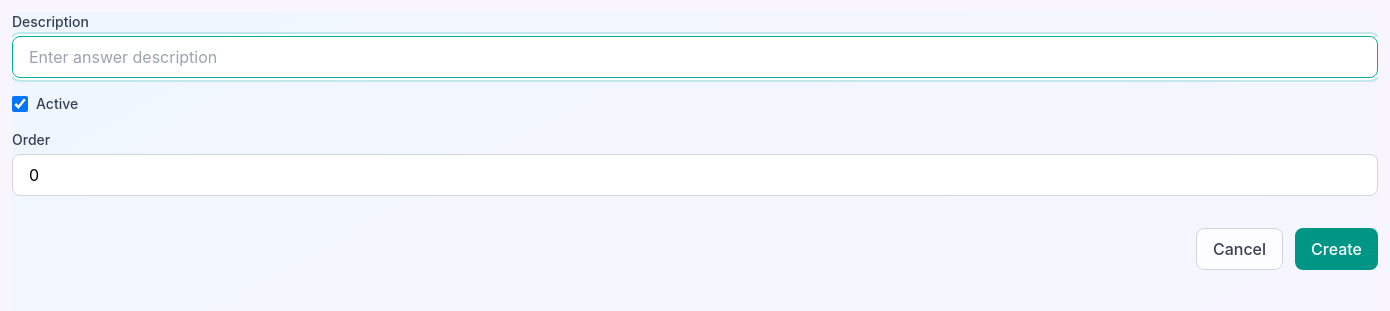
Scenario: AnswerForm › Form validation › should display error for empty description
The width and height of the screenshot is (1390, 311).
Click the button "Create".
click(1336, 249)  # box [1295, 228, 1378, 270]
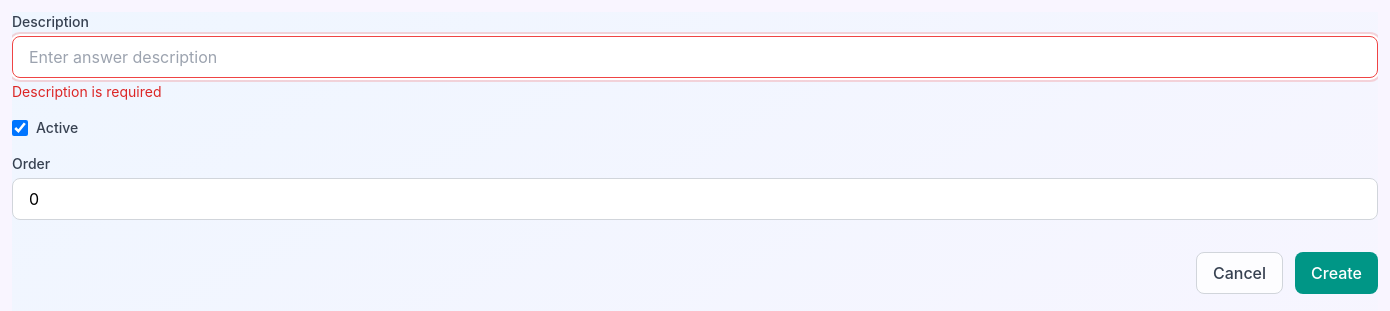
Expected: the message reads "Description is required", [12, 83, 162, 100]
